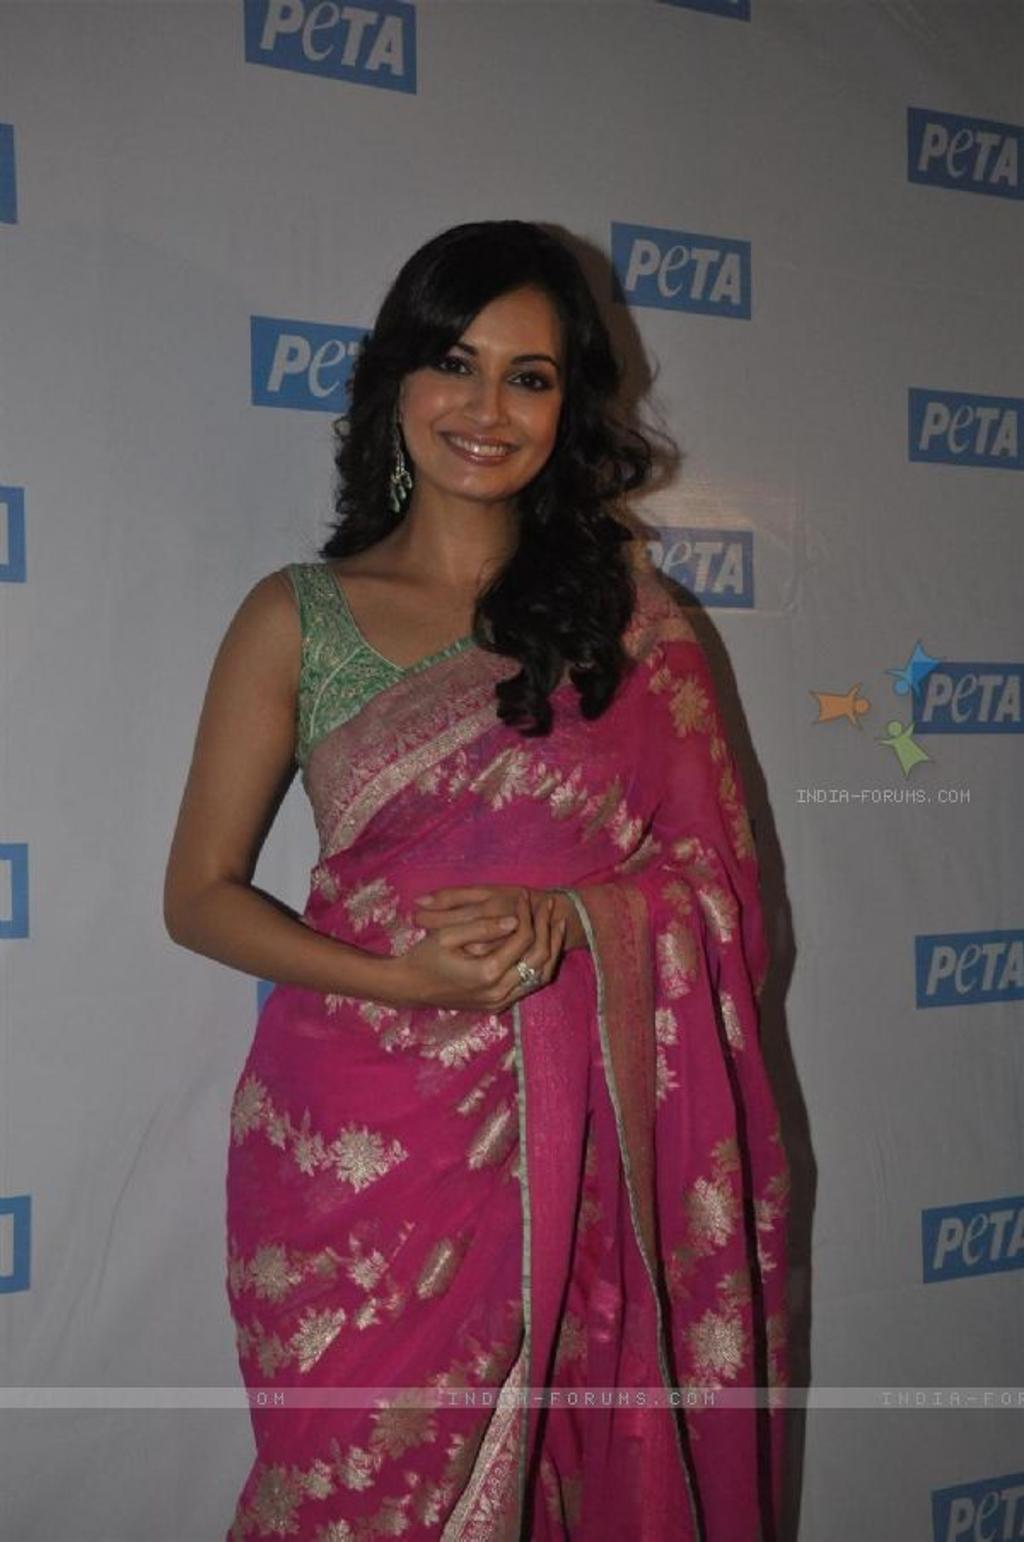face: (395, 283, 570, 497)
